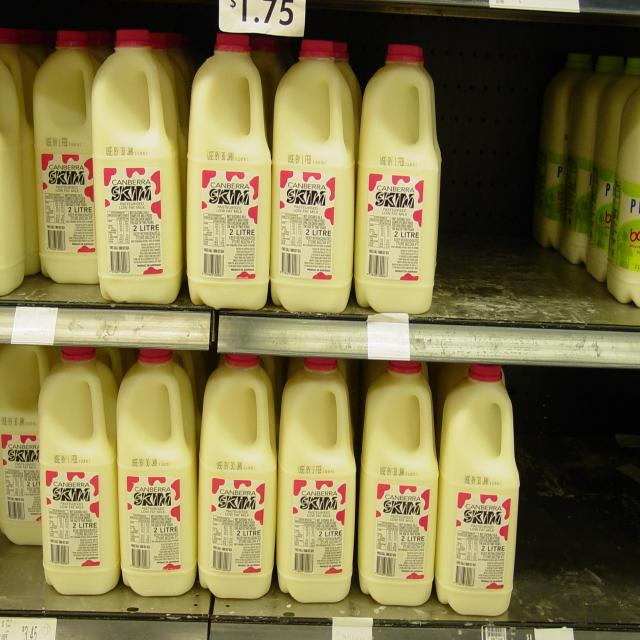void: (521, 382, 640, 624), (439, 51, 532, 319)
